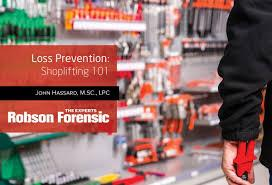shoplifting: (161, 77, 272, 185)
